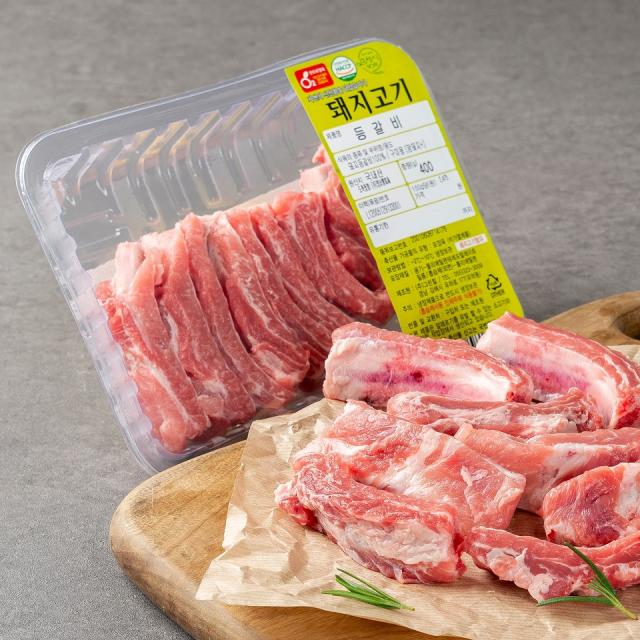pork: (61, 140, 640, 605)
